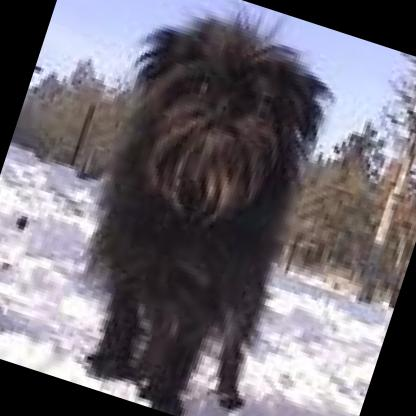affenpinscher: (20, 0, 359, 416)
